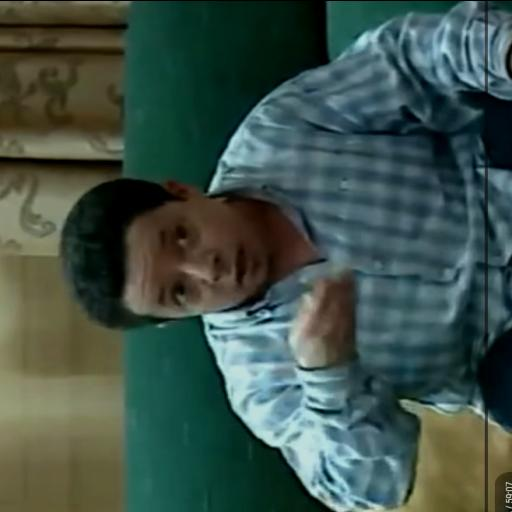fouchika: (60, 178, 275, 329)
